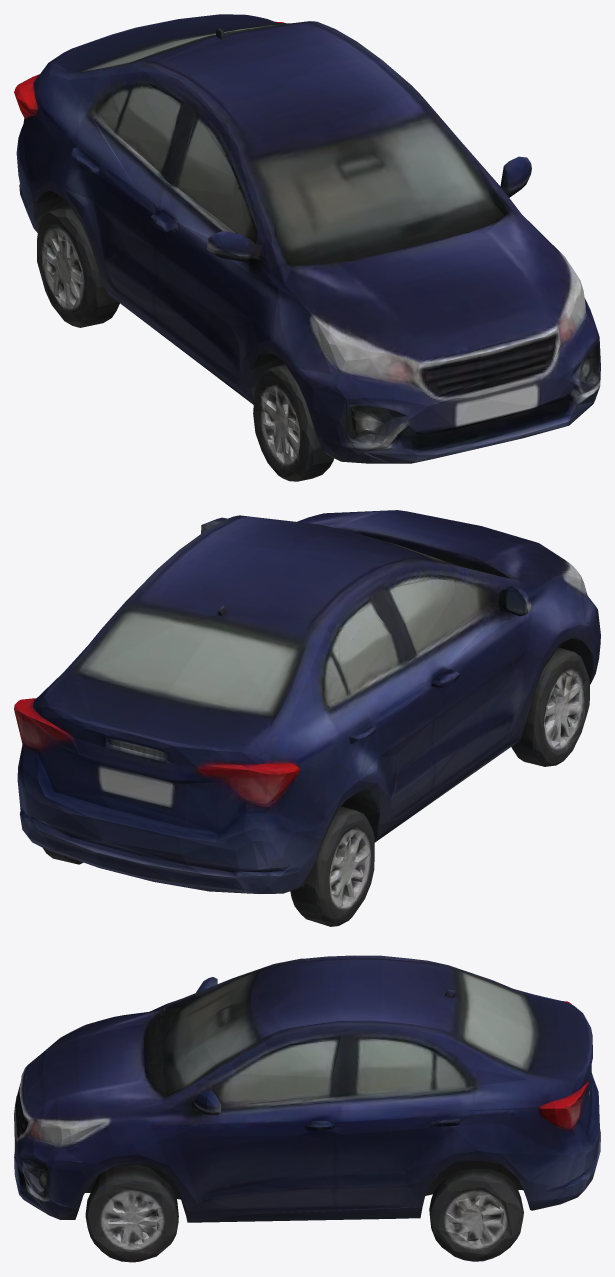
The model's file is car1.glb.
The picture shows the model from 3 angles, top to bottom: view 1: azimuth 30°, elevation 25°; view 2: azimuth 150°, elevation 25°; view 3: azimuth 270°, elevation 25°; orthographic projection. The views are drawn at different scales.
Parts seen in each view (by area): view 1: geometry_0; view 2: geometry_0; view 3: geometry_0.
Boxes of the visible parts, x1,y1,x2,y2 form: geometry_0: (14, 14, 600, 481); geometry_0: (14, 510, 600, 926); geometry_0: (14, 955, 600, 1262).
Size of the model in its own units: 0.5134 by 0.416 by 1.
Materials: 1 (1 with a texture image).
